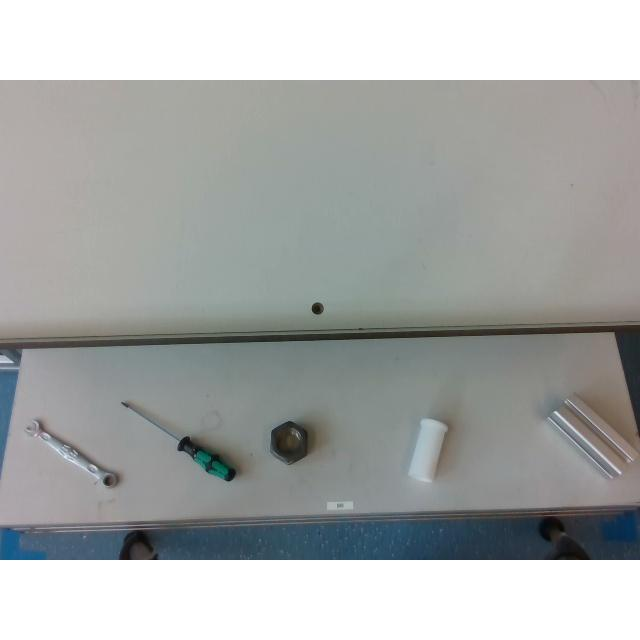M30: (269, 421, 307, 464)
S40_40_G: (548, 394, 636, 478)
Screwdriver: (121, 401, 235, 481)
Spacer: (408, 418, 448, 482)
Wrench: (26, 419, 119, 487)
